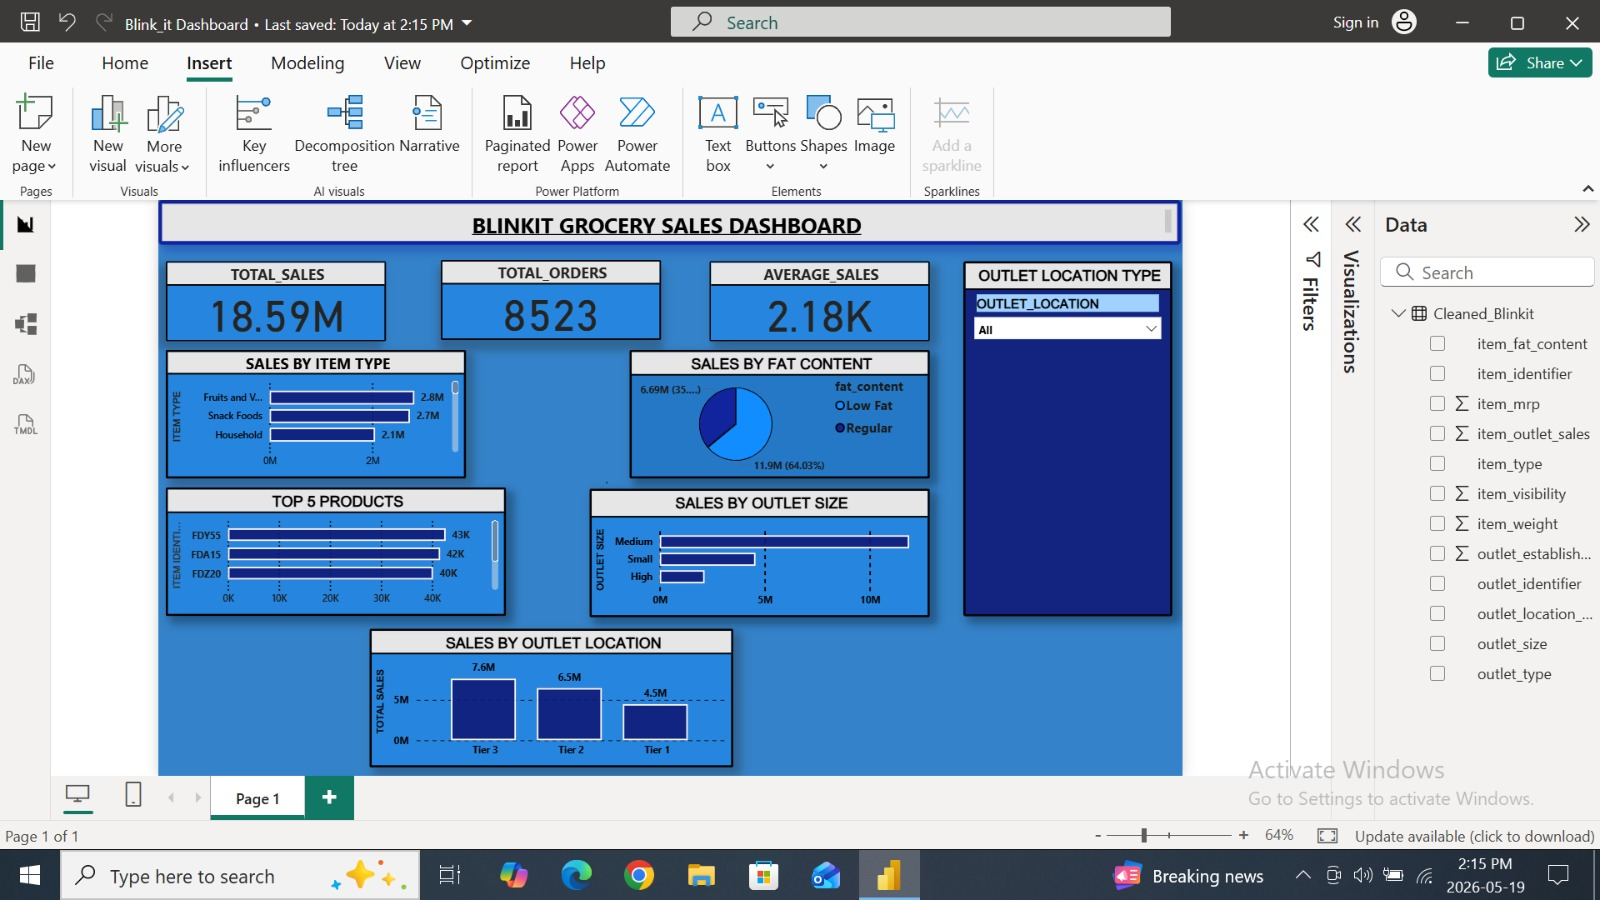

The page's visual inventory and layout, read from the dashboard file:
{"tool":"powerbi","page":{"name":"Page 1","canvas":[1280,720],"ordinal":0},"visuals":[{"type":"card","title":"TOTAL_SALES","fields":{"Values":["Sum(Cleaned_Blinkit.item_outlet_sales)"]},"box":[9.5,76.3,275.2,100],"z":0},{"type":"card","title":"TOTAL_ORDERS","fields":{"Values":["CountNonNull(Cleaned_Blinkit.item_identifier)"]},"box":[353.1,74.8,275.2,100.2],"z":1000},{"type":"card","title":"AVERAGE_SALES","fields":{"Values":["Avg(Cleaned_Blinkit.item_outlet_sales)"]},"box":[688.7,76.3,275.2,100.2],"z":2000},{"type":"clusteredBarChart","title":"SALES BY ITEM TYPE","fields":{"Category":["Cleaned_Blinkit.item_type"],"Y":["Sum(Cleaned_Blinkit.item_outlet_sales)"]},"box":[9.5,187.7,375.4,160.7],"z":3000},{"type":"pieChart","title":"SALES BY FAT CONTENT","fields":{"Category":["Cleaned_Blinkit.item_fat_content"],"Y":["Sum(Cleaned_Blinkit.item_outlet_sales)"]},"box":[589.2,187.6,375.1,161],"z":4000},{"type":"clusteredBarChart","title":"SALES BY OUTLET SIZE","fields":{"Y":["Sum(Cleaned_Blinkit.item_outlet_sales)"],"Category":["Cleaned_Blinkit.outlet_size"]},"box":[539.2,361.1,425.1,161],"z":5000},{"type":"clusteredColumnChart","title":"SALES BY OUTLET LOCATION","fields":{"Category":["Cleaned_Blinkit.outlet_location_type"],"Y":["Sum(Cleaned_Blinkit.item_outlet_sales)"]},"box":[264.1,536.1,454.8,173.5],"z":6000},{"type":"clusteredBarChart","title":"TOP 5 PRODUCTS","fields":{"Category":["Cleaned_Blinkit.item_identifier"],"Y":["Sum(Cleaned_Blinkit.item_outlet_sales)"]},"box":[9.4,359.5,425,161],"z":7000},{"type":"slicer","title":"OUTLET LOCATION TYPE","fields":{"Values":["Cleaned_Blinkit.outlet_location_type"]},"box":[1006.6,76.6,261,443.9],"z":8000},{"type":"textbox","box":[0,0,1278.9,55.7],"z":9000}]}

Visuals, with their boxes on the page's 1280x720 design canvas (x1, y1, x2, y2). These are canvas units, not pixel positions in the 1600x900 screenshot, which may show the page scaled, cropped or inside an application window:
"TOTAL_SALES" card: <region>10, 76, 285, 176</region>
"TOTAL_ORDERS" card: <region>353, 75, 628, 175</region>
"AVERAGE_SALES" card: <region>689, 76, 964, 176</region>
"SALES BY ITEM TYPE" clusteredBarChart: <region>10, 188, 385, 348</region>
"SALES BY FAT CONTENT" pieChart: <region>589, 188, 964, 349</region>
"SALES BY OUTLET SIZE" clusteredBarChart: <region>539, 361, 964, 522</region>
"SALES BY OUTLET LOCATION" clusteredColumnChart: <region>264, 536, 719, 710</region>
"TOP 5 PRODUCTS" clusteredBarChart: <region>9, 360, 434, 520</region>
"OUTLET LOCATION TYPE" slicer: <region>1007, 77, 1268, 520</region>
textbox: <region>0, 0, 1279, 56</region>
